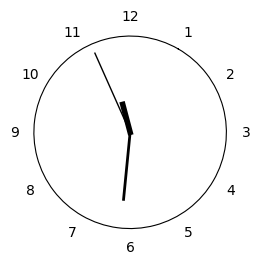12: (122, 9, 139, 23)
circle: (34, 36, 227, 229)
hours: (119, 101, 133, 135)
minutes: (122, 136, 131, 200)
seconds: (94, 52, 131, 135)
